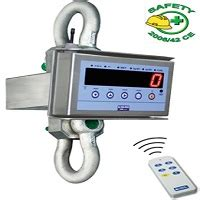Industrial Scale: (4, 1, 175, 182)
